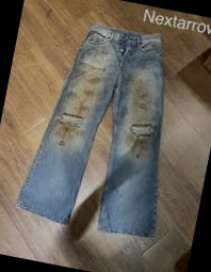earth: (70, 71, 101, 118), (131, 85, 150, 120), (54, 123, 81, 142), (126, 133, 148, 151)
